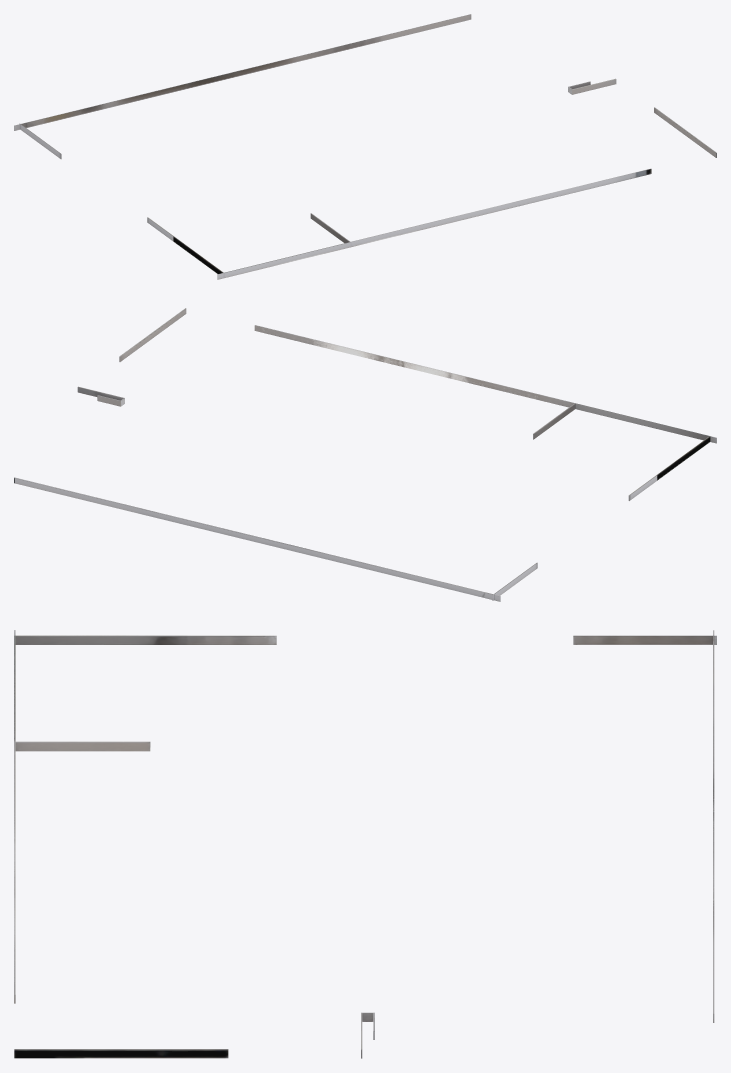
File: skirting.gltf
3 renders of one model, top to bottom at view 1: azimuth 30°, elevation 25°; view 2: azimuth 150°, elevation 25°; view 3: azimuth 270°, elevation 25°, orthographic. The views are drawn at different scales.
Parts seen in each view (by area): view 1: skirting; view 2: skirting; view 3: skirting.
Part boxes in pixels (box(x1,y1,x2,y2)): skirting: box(14, 14, 716, 279); skirting: box(14, 308, 716, 601); skirting: box(14, 630, 716, 1058).
Bounding box in the file's own units: 7.02 × 0.07 × 4.98.
Materials: 1 (1 with a texture image).
